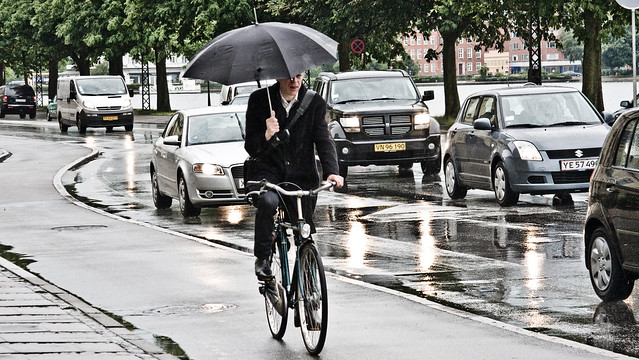apple: (424, 48, 439, 62)
backpack: (243, 126, 324, 314), (248, 84, 335, 251), (205, 98, 306, 208), (231, 78, 337, 160), (243, 104, 301, 227), (248, 88, 319, 188), (237, 78, 328, 125), (243, 97, 309, 155), (245, 91, 285, 184), (246, 171, 280, 277), (242, 140, 302, 198), (277, 93, 319, 175), (244, 152, 284, 228), (264, 89, 317, 143), (243, 85, 274, 160), (258, 88, 288, 151), (244, 149, 286, 189), (221, 84, 233, 105)
bench: (54, 132, 353, 315), (201, 57, 362, 262), (164, 76, 386, 201)
bicycle: (185, 67, 384, 260), (246, 80, 340, 309), (251, 169, 331, 344), (239, 116, 308, 297), (244, 180, 300, 325), (274, 219, 323, 346), (253, 188, 286, 293), (264, 211, 293, 324), (296, 235, 325, 342), (257, 249, 288, 339), (606, 90, 638, 126), (610, 100, 635, 121)
bird: (424, 48, 438, 62)
boat: (156, 43, 409, 173), (170, 10, 379, 135), (180, 16, 343, 95), (167, 78, 206, 93)
bottle: (300, 222, 310, 239)
bowl: (200, 303, 236, 312)
bus: (201, 57, 362, 262), (226, 38, 422, 201), (144, 70, 386, 199), (427, 77, 599, 204), (172, 10, 349, 123), (309, 62, 437, 173), (225, 22, 335, 148), (54, 75, 133, 132), (51, 71, 90, 126), (0, 81, 36, 119), (47, 74, 77, 118), (40, 72, 80, 100), (542, 63, 581, 80), (37, 72, 61, 99), (556, 62, 582, 74), (561, 64, 582, 78)
car: (56, 74, 396, 263), (251, 79, 561, 222), (201, 57, 362, 262), (273, 57, 422, 259), (207, 27, 415, 149), (213, 70, 418, 189), (160, 44, 335, 175), (426, 82, 602, 205), (151, 89, 328, 211), (172, 10, 349, 123), (541, 95, 630, 294), (494, 99, 618, 228), (272, 55, 391, 177), (306, 60, 434, 172), (150, 104, 250, 219), (204, 52, 343, 134), (583, 104, 639, 307), (181, 77, 324, 151), (237, 79, 344, 169), (224, 90, 312, 197), (349, 64, 443, 141), (584, 108, 628, 229), (54, 75, 133, 133), (237, 78, 328, 125), (599, 102, 637, 214), (422, 76, 507, 122), (149, 105, 208, 171), (149, 113, 182, 206), (424, 78, 474, 139), (46, 71, 117, 113), (405, 74, 444, 148), (390, 69, 443, 120), (174, 75, 260, 106), (416, 85, 444, 180), (220, 79, 297, 108), (51, 83, 94, 132), (416, 81, 462, 122), (601, 89, 637, 138), (581, 92, 631, 127), (39, 68, 94, 99), (53, 73, 82, 122), (415, 85, 443, 134), (151, 112, 181, 156), (0, 82, 36, 118), (410, 80, 448, 114), (421, 120, 443, 177), (166, 86, 217, 108), (604, 83, 636, 118), (528, 62, 581, 83), (221, 83, 268, 106), (45, 81, 72, 121), (45, 72, 79, 103), (53, 90, 76, 134), (36, 69, 78, 90), (168, 77, 212, 97), (608, 97, 638, 126), (553, 63, 594, 82), (142, 73, 184, 90), (40, 89, 63, 120), (3, 79, 36, 100), (568, 66, 614, 81), (541, 61, 582, 77), (143, 68, 183, 84), (616, 90, 639, 117), (569, 62, 613, 76), (412, 87, 435, 112), (6, 76, 45, 90), (545, 67, 581, 82), (36, 72, 56, 99), (605, 100, 630, 120), (421, 88, 439, 114), (53, 96, 70, 123), (222, 94, 250, 110), (31, 72, 50, 95), (23, 74, 49, 90), (48, 99, 65, 122), (603, 107, 623, 126), (417, 86, 439, 102), (229, 91, 254, 105), (123, 76, 140, 96), (36, 82, 50, 106), (38, 92, 54, 112), (557, 64, 581, 77), (3, 80, 29, 92), (200, 303, 234, 312), (616, 103, 635, 119), (544, 72, 573, 82), (620, 91, 638, 107), (45, 100, 58, 121), (43, 96, 55, 118), (601, 65, 625, 76), (0, 86, 8, 118), (28, 79, 47, 92), (559, 70, 581, 81), (59, 61, 79, 72), (46, 91, 57, 111), (565, 61, 583, 73), (167, 74, 182, 88), (612, 65, 631, 76), (628, 87, 639, 106), (36, 74, 49, 90), (603, 111, 617, 125), (619, 96, 634, 109), (59, 66, 80, 75), (389, 67, 410, 76), (422, 90, 434, 105), (491, 66, 509, 76), (615, 100, 631, 111), (37, 93, 49, 107), (7, 79, 26, 87), (59, 70, 80, 77)
chair: (210, 71, 353, 302), (250, 174, 330, 346), (148, 95, 258, 212), (620, 92, 638, 108)
clock: (351, 38, 365, 53), (424, 48, 438, 62)
dining table: (164, 76, 386, 201)
fire hydrant: (250, 174, 330, 346)
frisbee: (201, 303, 233, 312), (350, 38, 365, 54)
handbag: (248, 84, 335, 251), (231, 78, 337, 160), (243, 104, 301, 227), (248, 88, 319, 188), (243, 97, 309, 155), (245, 91, 285, 184), (242, 140, 302, 198), (277, 93, 319, 175), (260, 92, 301, 175), (264, 89, 317, 143), (243, 85, 274, 160), (258, 88, 288, 151), (245, 145, 286, 185), (265, 88, 283, 141), (221, 84, 233, 105)
kite: (144, 70, 386, 199)
motorcycle: (198, 83, 377, 193), (251, 162, 334, 341), (580, 98, 638, 312), (601, 89, 637, 138), (606, 98, 636, 125), (613, 91, 638, 120), (45, 97, 58, 121)
person: (222, 64, 422, 263), (197, 108, 368, 330), (152, 97, 308, 340), (177, 69, 349, 250), (239, 60, 342, 302), (198, 42, 345, 181), (151, 88, 311, 213), (247, 146, 337, 341), (189, 12, 346, 121), (182, 102, 275, 266), (272, 55, 391, 177), (307, 68, 430, 179), (582, 96, 638, 308), (244, 81, 328, 191), (235, 84, 287, 185), (416, 85, 444, 180), (0, 81, 36, 119), (419, 87, 443, 136), (608, 93, 638, 126), (478, 98, 506, 125), (220, 82, 250, 106), (206, 118, 237, 141), (422, 103, 440, 138), (473, 98, 492, 128), (500, 98, 522, 122), (190, 120, 210, 142), (618, 91, 637, 113), (481, 102, 496, 127), (612, 102, 627, 123), (479, 99, 494, 119), (351, 82, 367, 98), (614, 101, 631, 116), (221, 84, 233, 105), (473, 117, 491, 131), (392, 83, 409, 97), (619, 96, 634, 109), (422, 90, 434, 105), (254, 67, 262, 88)
potted plant: (424, 48, 439, 62), (477, 64, 490, 79)
skateboard: (201, 302, 238, 313), (0, 147, 12, 163)
stop sign: (351, 38, 365, 53)
suitcase: (149, 93, 303, 208), (247, 155, 281, 183)
tie: (248, 92, 290, 184), (268, 98, 313, 179), (264, 89, 317, 143), (265, 96, 291, 162), (267, 88, 287, 140), (264, 92, 279, 140)
train: (156, 43, 409, 173), (170, 10, 379, 135)
truck: (176, 17, 421, 156), (177, 69, 349, 250), (154, 46, 365, 182), (307, 69, 516, 200), (213, 70, 418, 189), (427, 77, 599, 204), (244, 64, 368, 231), (189, 12, 346, 121), (272, 55, 391, 177), (306, 60, 434, 172), (582, 96, 638, 308), (150, 104, 252, 220), (58, 75, 134, 135), (422, 76, 507, 122), (46, 71, 117, 113), (18, 75, 73, 115), (51, 71, 90, 126), (416, 81, 462, 122), (415, 81, 444, 134), (0, 81, 36, 119), (47, 74, 77, 118), (43, 72, 84, 101), (221, 83, 268, 106), (37, 72, 66, 108), (609, 94, 639, 125), (46, 88, 68, 122), (541, 63, 582, 80), (36, 72, 56, 99), (541, 71, 574, 82), (552, 69, 581, 81), (36, 82, 50, 106), (557, 64, 581, 77), (45, 97, 58, 121), (36, 75, 49, 94)
tv: (179, 9, 339, 99)
umbrella: (166, 36, 355, 173), (232, 61, 341, 267), (198, 83, 377, 193), (149, 93, 303, 208), (156, 14, 297, 133), (269, 61, 406, 168), (179, 10, 339, 101), (225, 22, 335, 148), (228, 75, 336, 132), (197, 79, 222, 92)
wine glass: (251, 169, 331, 344)
